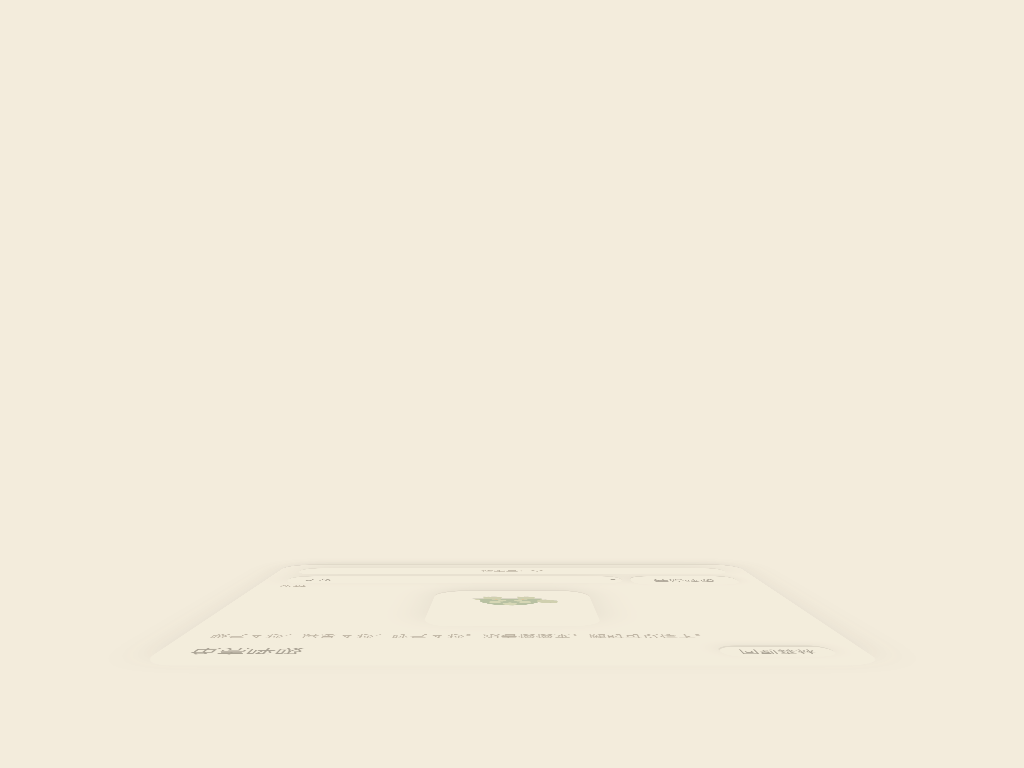
Test: 龟壳呼吸 › 默认 3 轮，48 秒后收尾并记下轮数
This screenshot has width=1024, height=768.
Click the button "开始呼吸": (686, 580) x1=628 y1=576 x2=743 y2=584
Wait 48000 ms
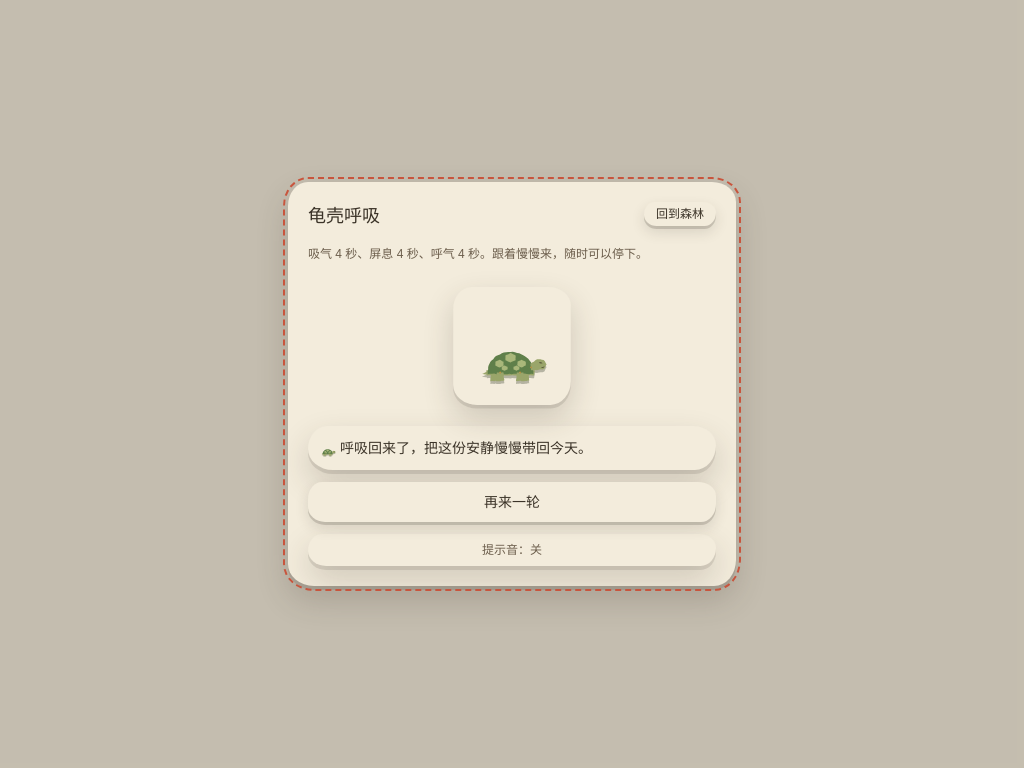
Result: the element with test id "breath-closing" reads "呼吸回来了，把这份安静慢慢带回今天。" at x1=340 y1=440 x2=592 y2=456
